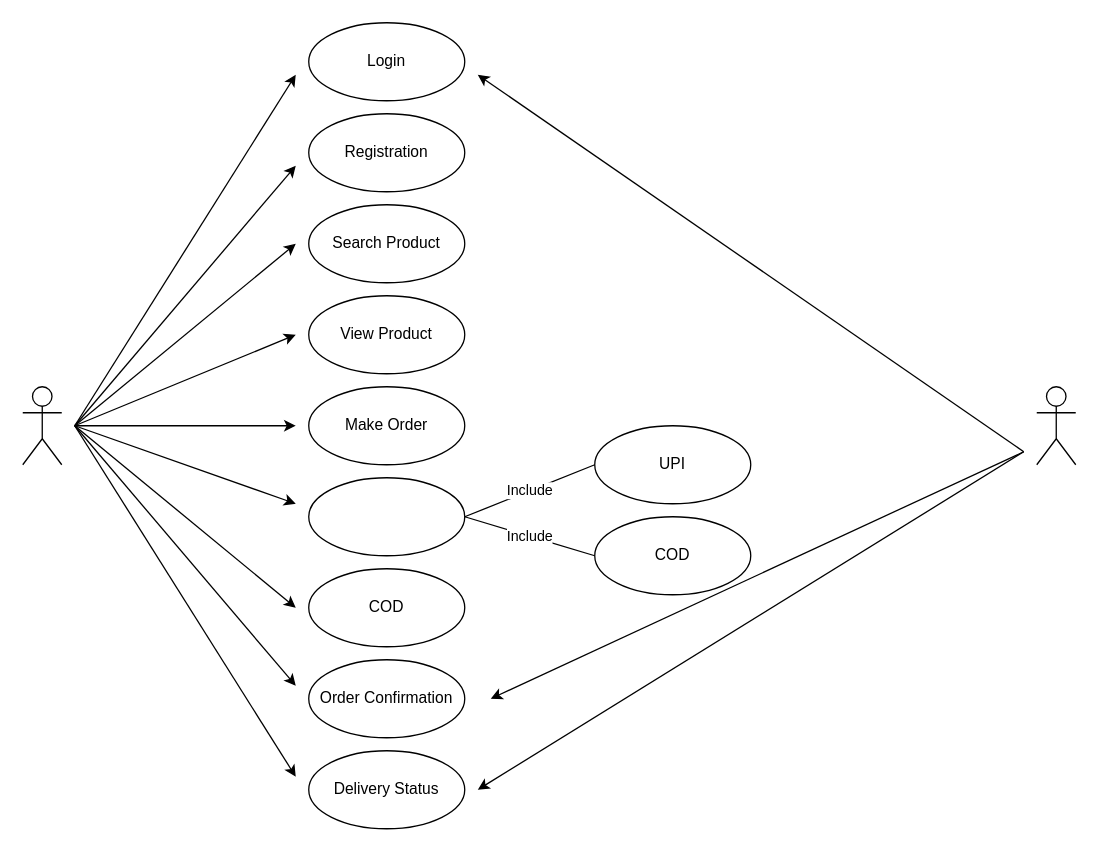
This 1101x851 diagram has some shape labels left out. The centre of each missing label's shape, as x and y in pixels:
"Admin" belongs at (1055,425).
"Make Payment" belongs at (386,516).
"User" belongs at (41,425).
